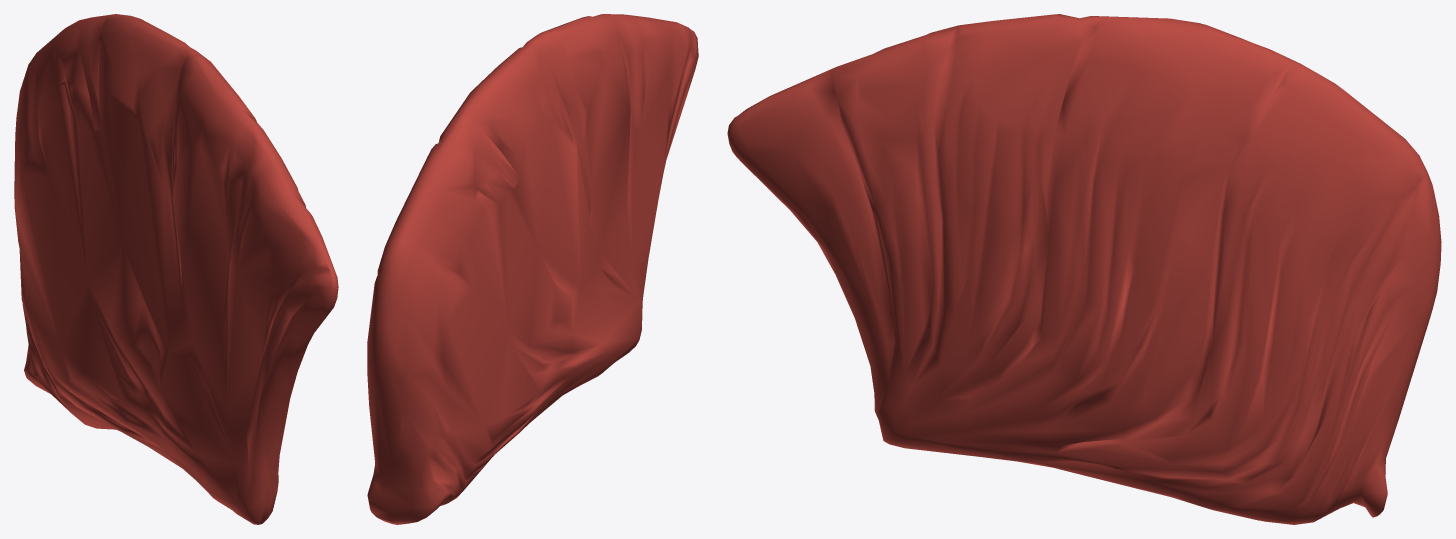
The model's file is musculos-genioglossus-muscle-l.glb.
3 renders of one model, left to right at view 1: azimuth 30°, elevation 25°; view 2: azimuth 150°, elevation 25°; view 3: azimuth 270°, elevation 25°, orthographic. The views are drawn at different scales.
Visible parts, largest first — view 1: Genioglossus muscle.l; view 2: Genioglossus muscle.l; view 3: Genioglossus muscle.l.
Boxes of the visible parts, x1,y1,x2,y2 form: Genioglossus muscle.l: [14, 14, 338, 524]; Genioglossus muscle.l: [367, 14, 698, 524]; Genioglossus muscle.l: [727, 14, 1441, 524].
Bounding box in the file's own units: 0.00761 × 0.0361 × 0.0476.
